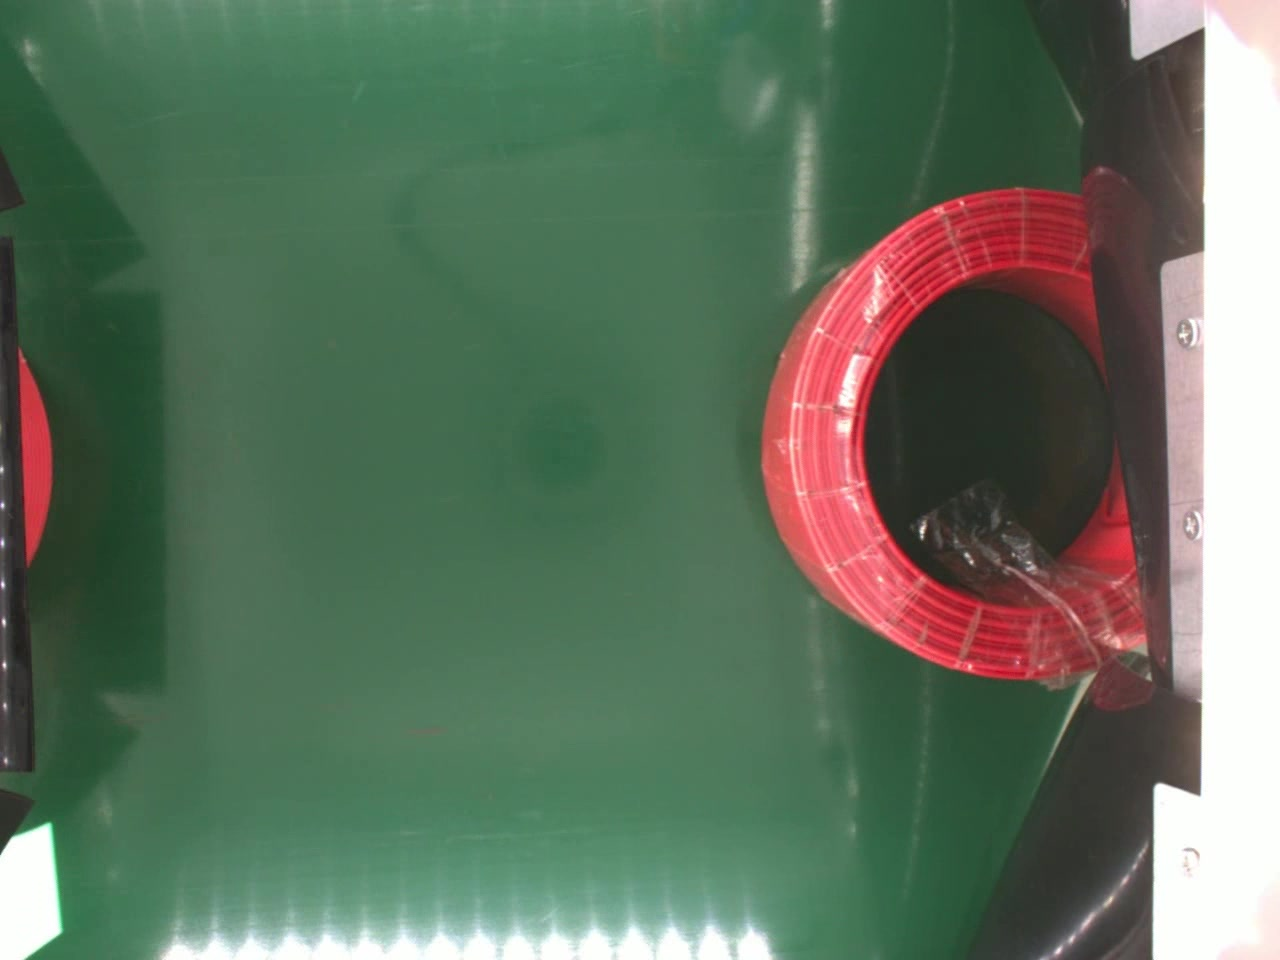red: (758, 184, 1146, 681)
